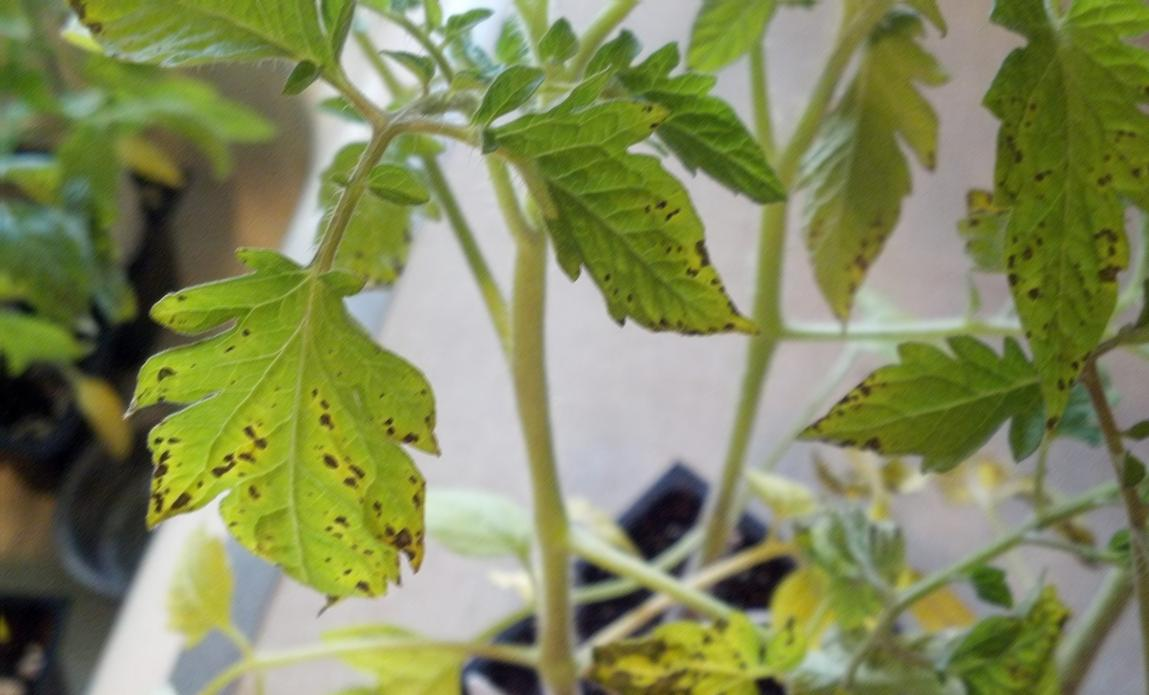Tomato Septoria leaf spot: (128, 272, 450, 650), (464, 81, 783, 342), (967, 4, 1149, 454), (781, 331, 1088, 501), (571, 597, 781, 695)
